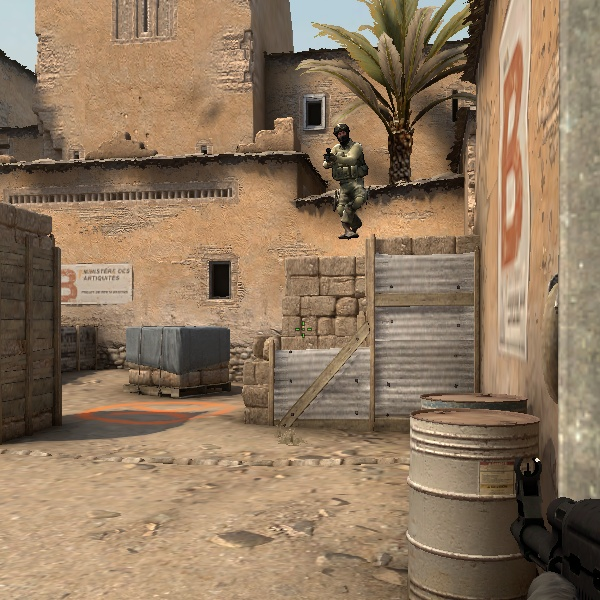ct_body: (312, 118, 376, 236)
ct_head: (328, 120, 355, 148)
